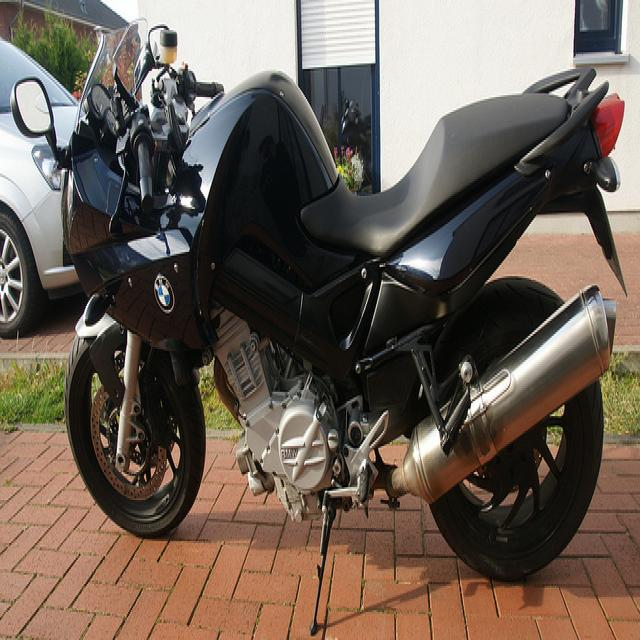motor: (14, 15, 628, 635)
